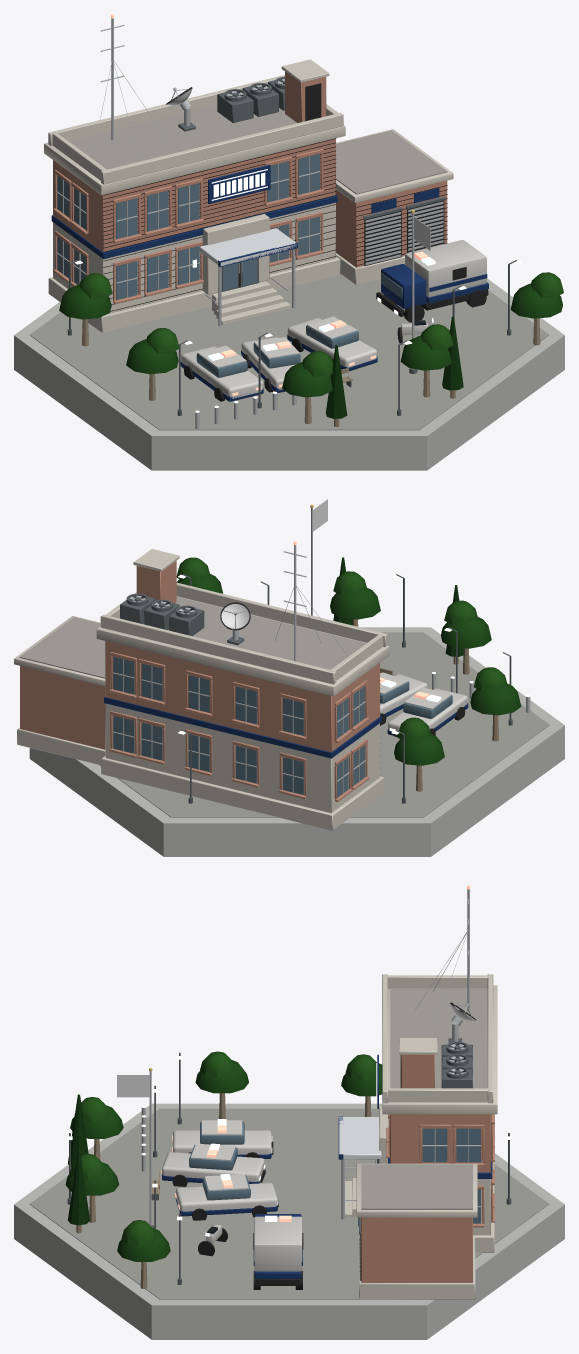
Rendered from policeStation_med.glb.
The picture shows the model from 3 angles, top to bottom: view 1: azimuth 30°, elevation 25°; view 2: azimuth 150°, elevation 25°; view 3: azimuth 270°, elevation 25°; orthographic projection. The views are drawn at different scales.
Parts seen in each view (by area): view 1: pavers, wall_concrete, stone, brick, paint, glass, leaf, gravel, dark, metal, steel_dark, cladding (+2 smaller); view 2: stone, wall_concrete, brick, pavers, glass, leaf, gravel, paint, steel_dark, metal, wood; view 3: pavers, wall_concrete, stone, brick, gravel, paint, leaf, glass, steel_dark, metal, dark, cladding (+2 smaller).
Boxes of the visible parts, x1,y1,x2,y2 form: pavers: [30, 274, 548, 430]; wall_concrete: [14, 156, 564, 470]; stone: [44, 59, 453, 332]; brick: [53, 71, 447, 304]; paint: [51, 87, 488, 401]; glass: [57, 154, 402, 377]; leaf: [59, 272, 563, 418]; gravel: [69, 105, 447, 194]; dark: [103, 81, 488, 401]; metal: [92, 18, 443, 428]; steel_dark: [67, 76, 516, 415]; cladding: [199, 228, 297, 266]; stone: [14, 549, 389, 830]; wall_concrete: [29, 627, 564, 856]; brick: [20, 561, 379, 801]; pavers: [99, 632, 549, 817]; glass: [113, 656, 452, 797]; leaf: [176, 557, 521, 765]; gravel: [19, 597, 366, 678]; paint: [104, 603, 468, 758]; steel_dark: [120, 574, 512, 803]; metal: [129, 508, 530, 712]; wood: [352, 619, 498, 791]; pavers: [29, 1108, 549, 1299]; wall_concrete: [14, 1103, 564, 1339]; stone: [345, 974, 497, 1299]; brick: [361, 1054, 494, 1282]; gravel: [361, 988, 487, 1209]; paint: [162, 1003, 492, 1278]; leaf: [65, 1051, 382, 1261]; glass: [189, 1121, 480, 1223]; steel_dark: [67, 1038, 511, 1284]; metal: [141, 889, 471, 1279]; dark: [172, 1002, 476, 1289]; cladding: [339, 1117, 381, 1159].
Size of the model in its own units: 21.3 by 15.3 by 24.6.
